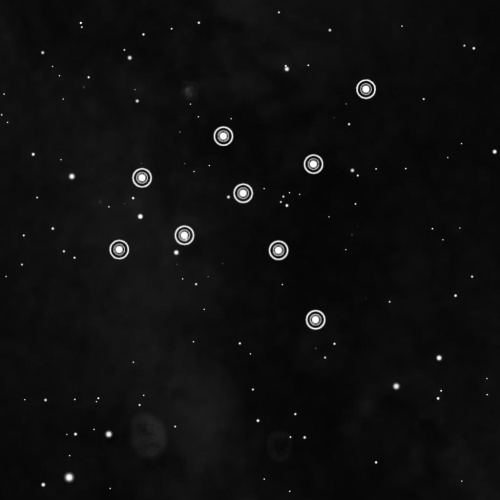cygnus: (102, 71, 383, 339)
